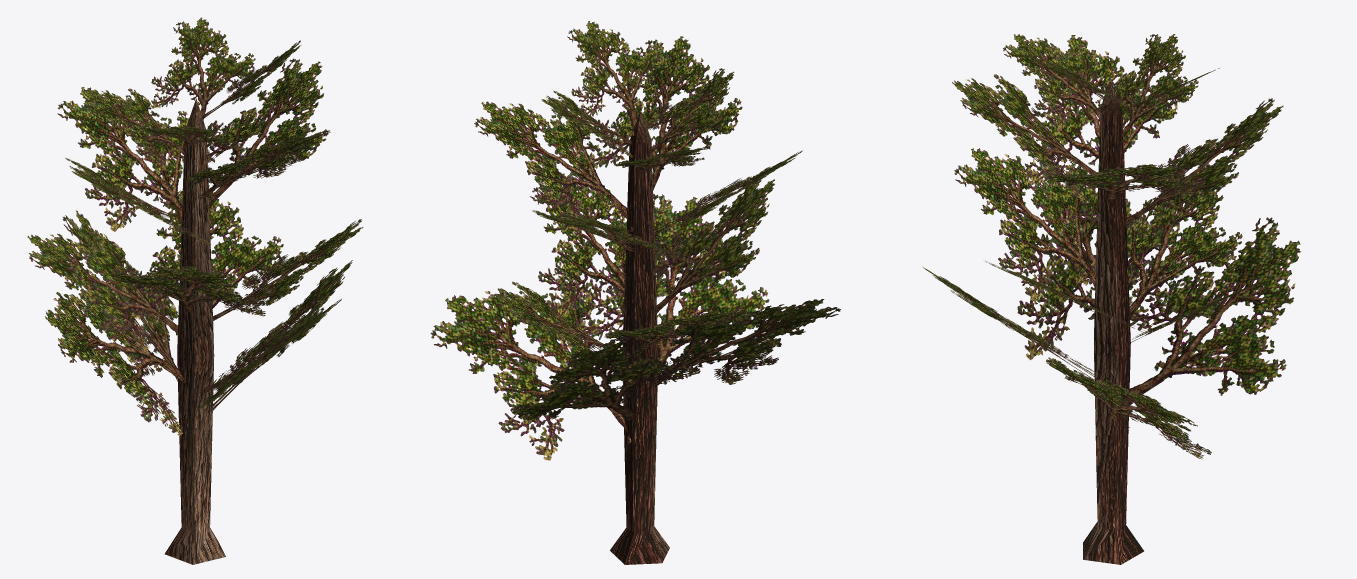
File: mm9_deco_tree01b.glb
3 views of the same model, side by side, from view 1: azimuth 30°, elevation 25°; view 2: azimuth 150°, elevation 25°; view 3: azimuth 270°, elevation 25° (orthographic). The views are drawn at different scales.
Parts seen in each view (by area): view 1: Tree01b; view 2: Tree01b; view 3: Tree01b.
Part boxes in pixels (x1=…): Tree01b: x1=27, y1=17, x2=363, y2=564; Tree01b: x1=430, y1=21, x2=840, y2=564; Tree01b: x1=923, y1=34, x2=1300, y2=564.
Bounding box in the file's own units: 14.86 × 19.04 × 14.65.
2 materials, 2 textured.
